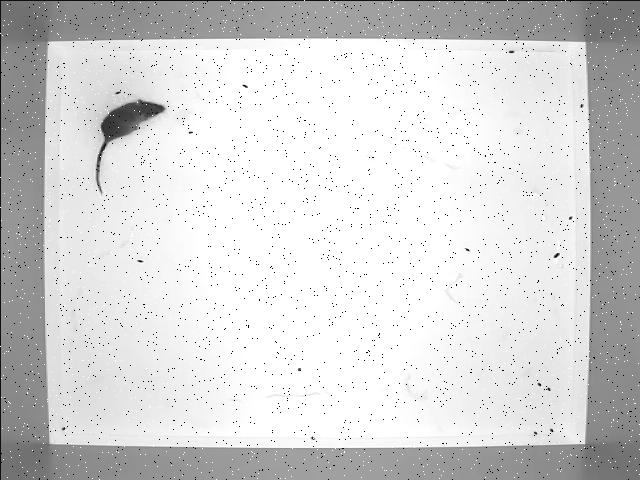Tikus: (86, 98, 168, 192)
